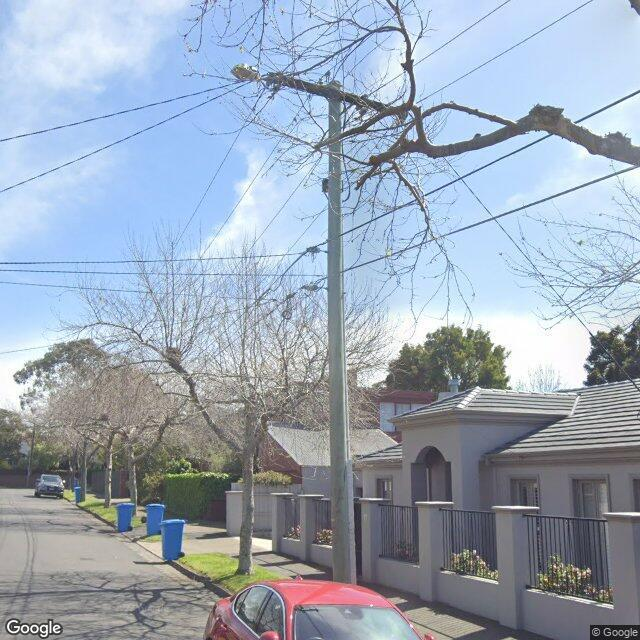crossarm: (268, 72, 391, 110)
streetlight: (231, 64, 268, 82)
timber-pole: (329, 81, 356, 585)
